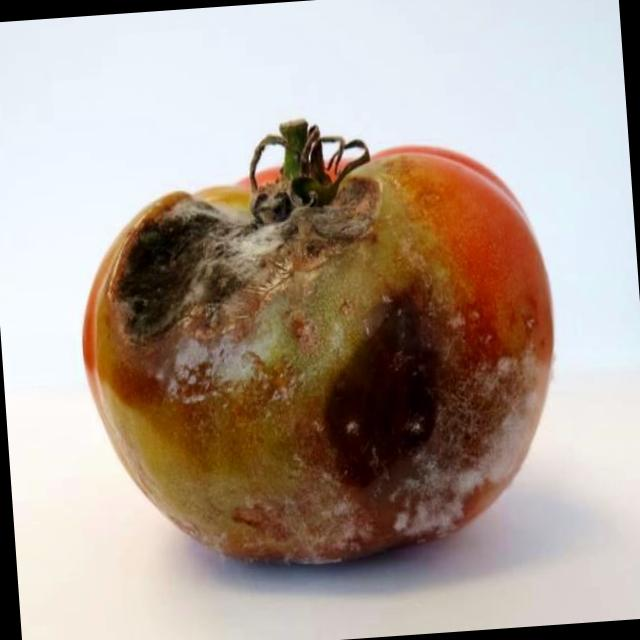Rotten_Tomato: (61, 88, 576, 581)
